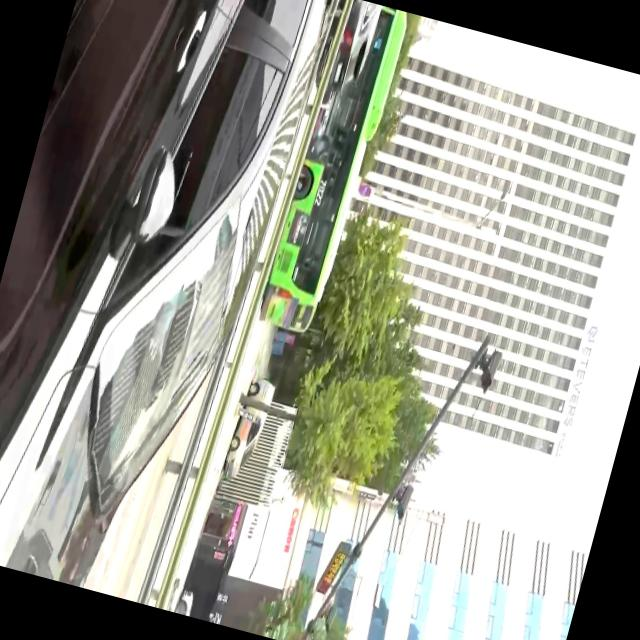building: (299, 48, 640, 454), (177, 443, 591, 640)
car: (0, 0, 334, 609), (252, 6, 414, 333), (220, 373, 276, 483)
